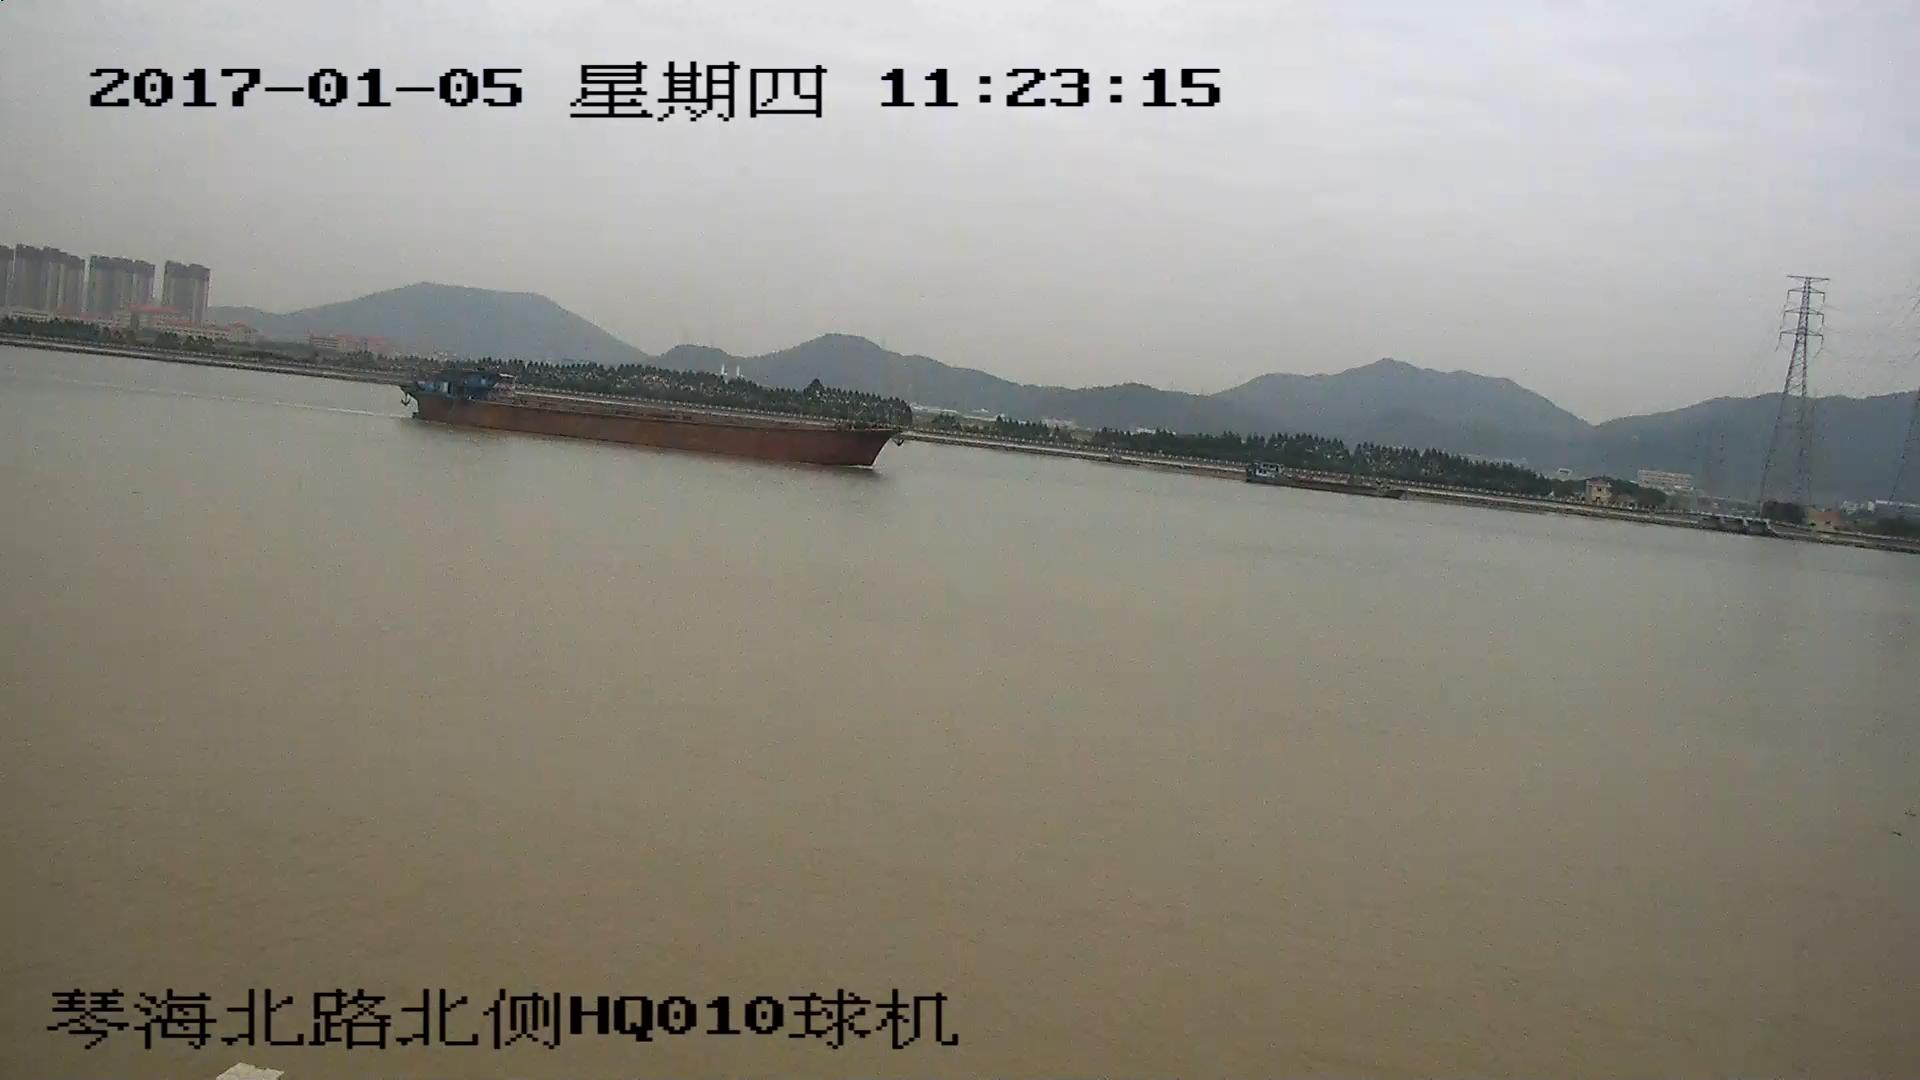bulk cargo carrier: (411, 372, 899, 468)
